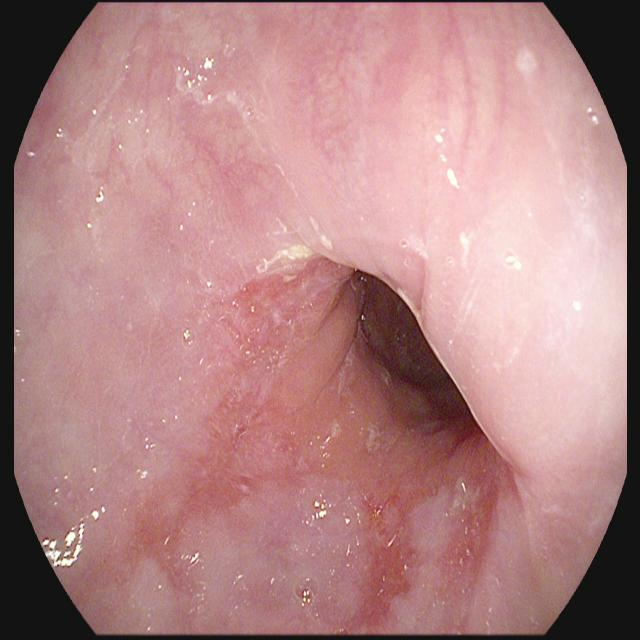esophagitis: (59, 257, 507, 639)
